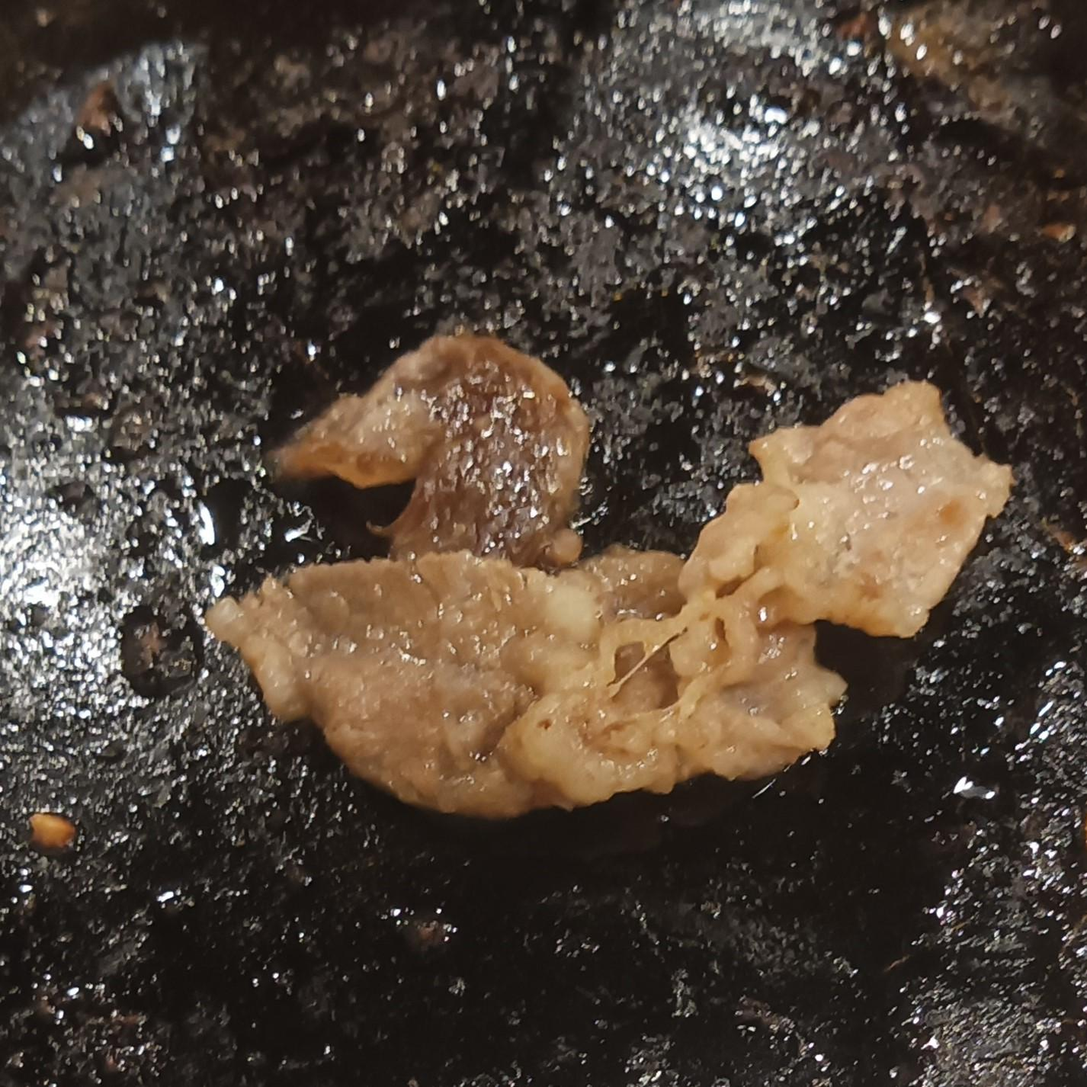Well-Cooked: (196, 331, 1014, 829)
